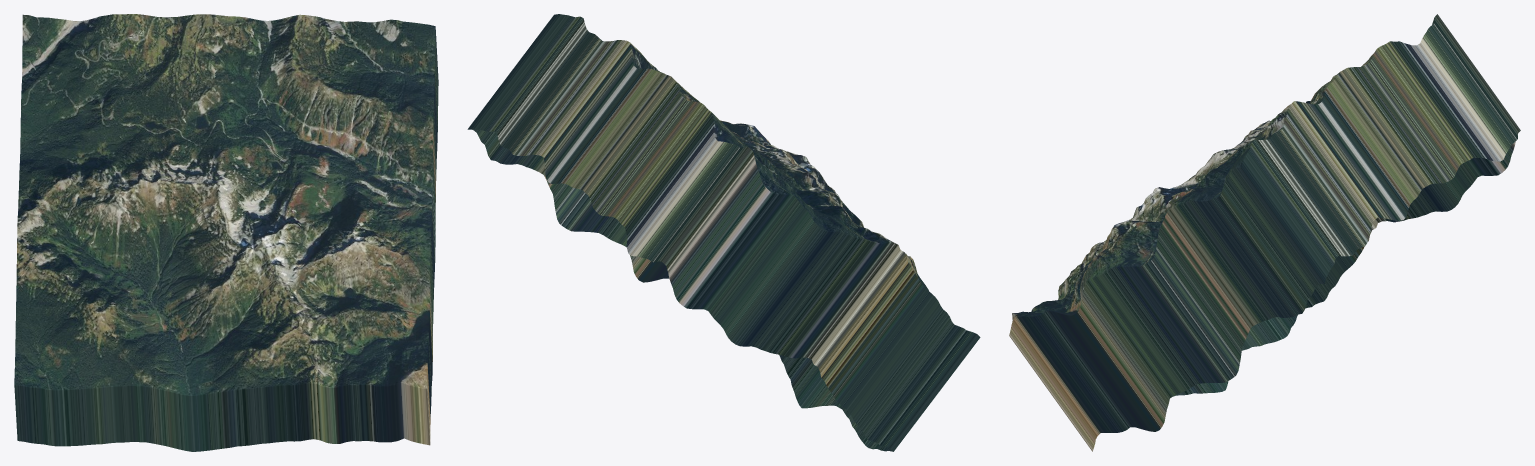
The picture shows the model from 3 angles, left to right: view 1: azimuth 30°, elevation 25°; view 2: azimuth 150°, elevation 25°; view 3: azimuth 270°, elevation 25°; orthographic projection. The views are drawn at different scales.
Size of the model in its own units: 11036 by 8223 by 10720.
1 material, 1 textured.
